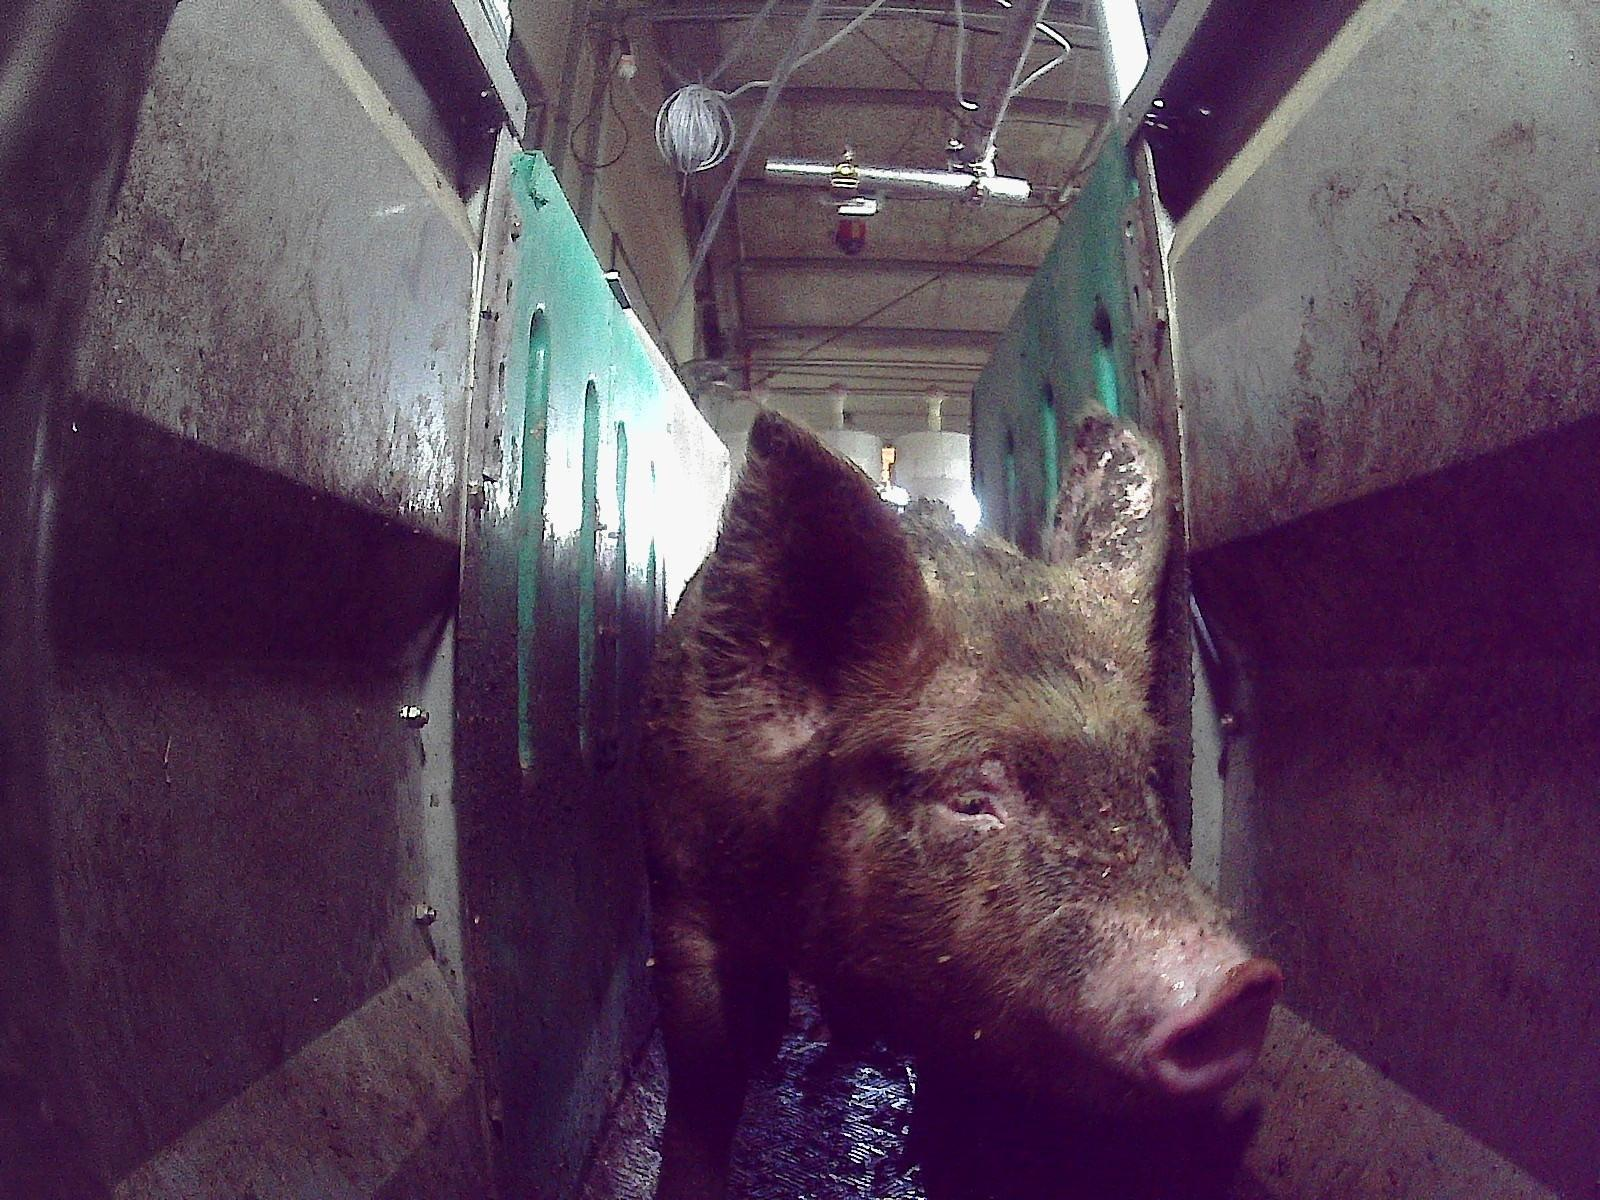Face: (763, 519, 1284, 1109)
